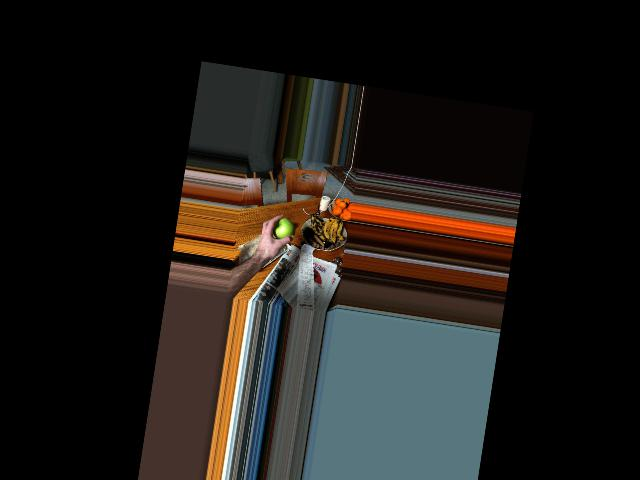apple: (271, 214, 295, 242)
